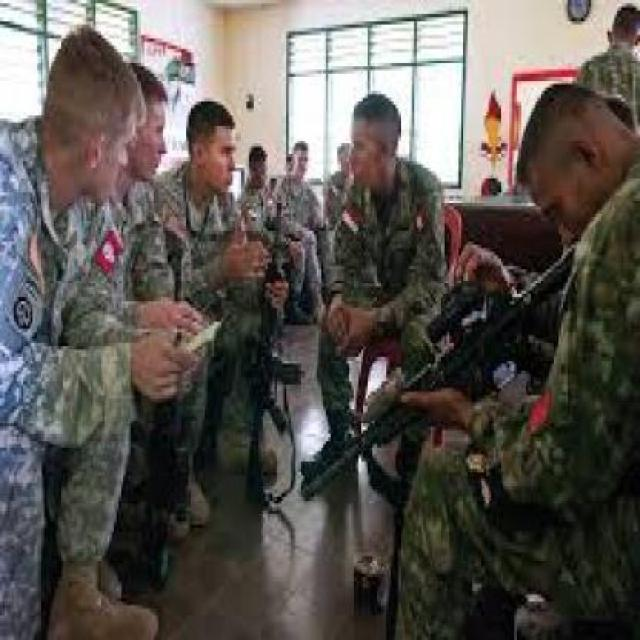weapon: (239, 211, 309, 514)
